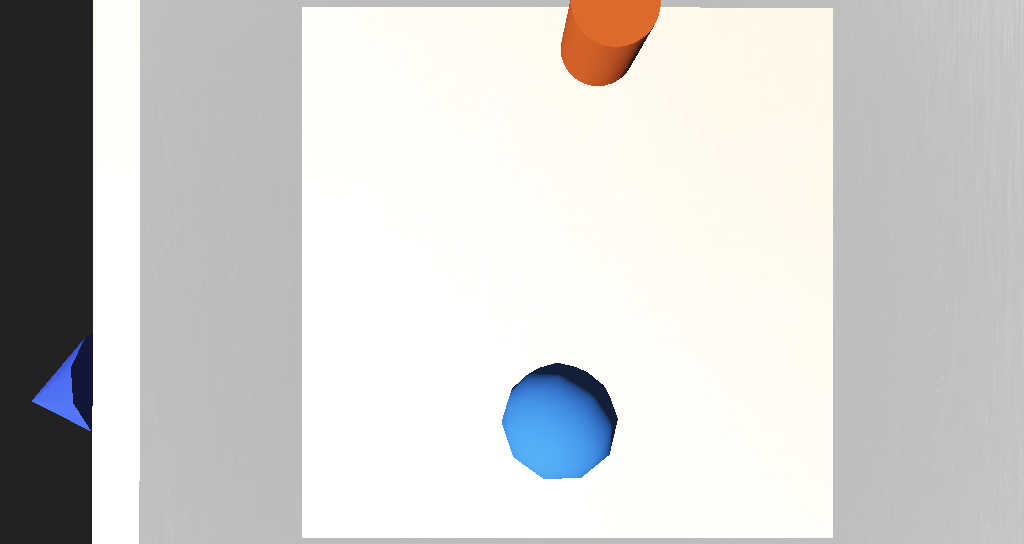cone: (502, 153, 549, 191)
cylinder: (172, 282, 300, 348)
sphere: (465, 301, 532, 348)
